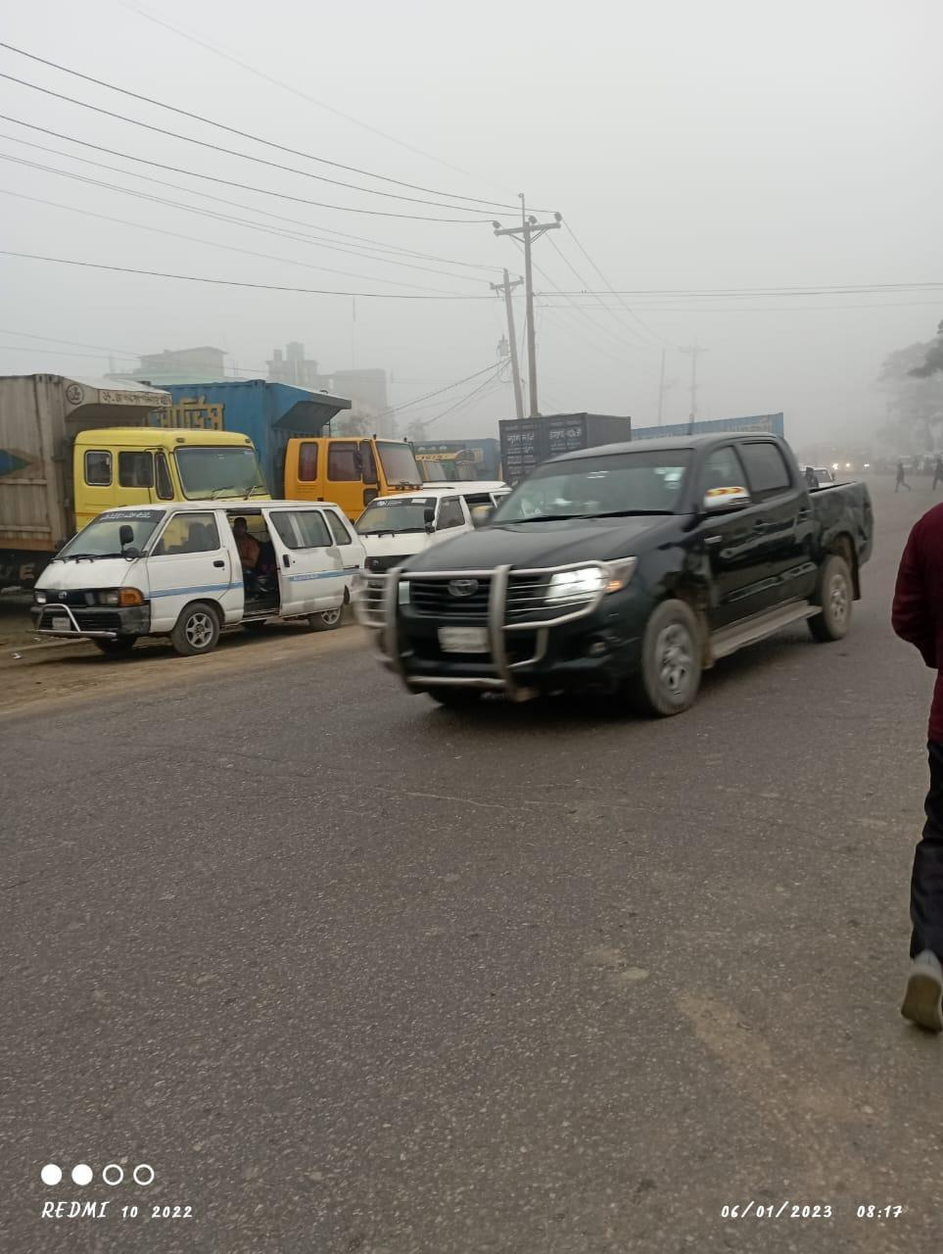Car: (36, 493, 362, 635)
Truck: (377, 423, 886, 700), (8, 346, 210, 549), (172, 369, 411, 505)
